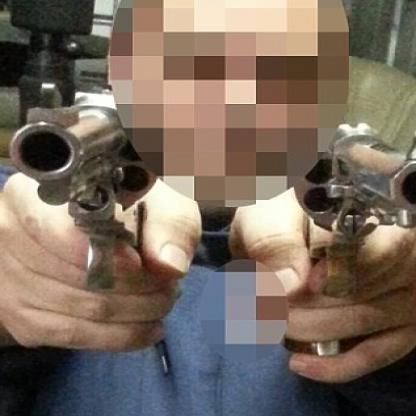gun: (280, 112, 414, 366), (7, 98, 147, 295)
